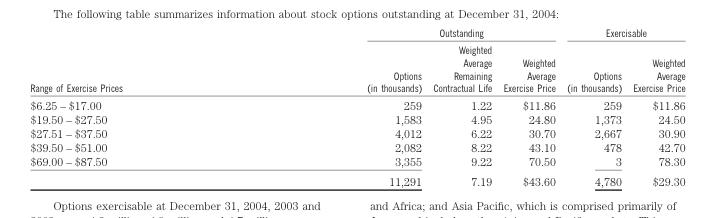table: (29, 28, 684, 186)
table column: (29, 28, 244, 186), (244, 28, 426, 186), (426, 28, 496, 186), (560, 28, 626, 186), (496, 28, 560, 186), (626, 28, 684, 186)
table column header: (29, 28, 684, 82)
table row: (29, 41, 684, 82), (29, 96, 684, 112), (29, 154, 684, 170), (29, 170, 684, 186), (29, 82, 684, 96), (29, 112, 684, 126), (29, 126, 684, 140), (29, 140, 684, 154), (29, 28, 684, 41)
table spanning cell: (244, 28, 560, 41), (560, 28, 684, 41)
